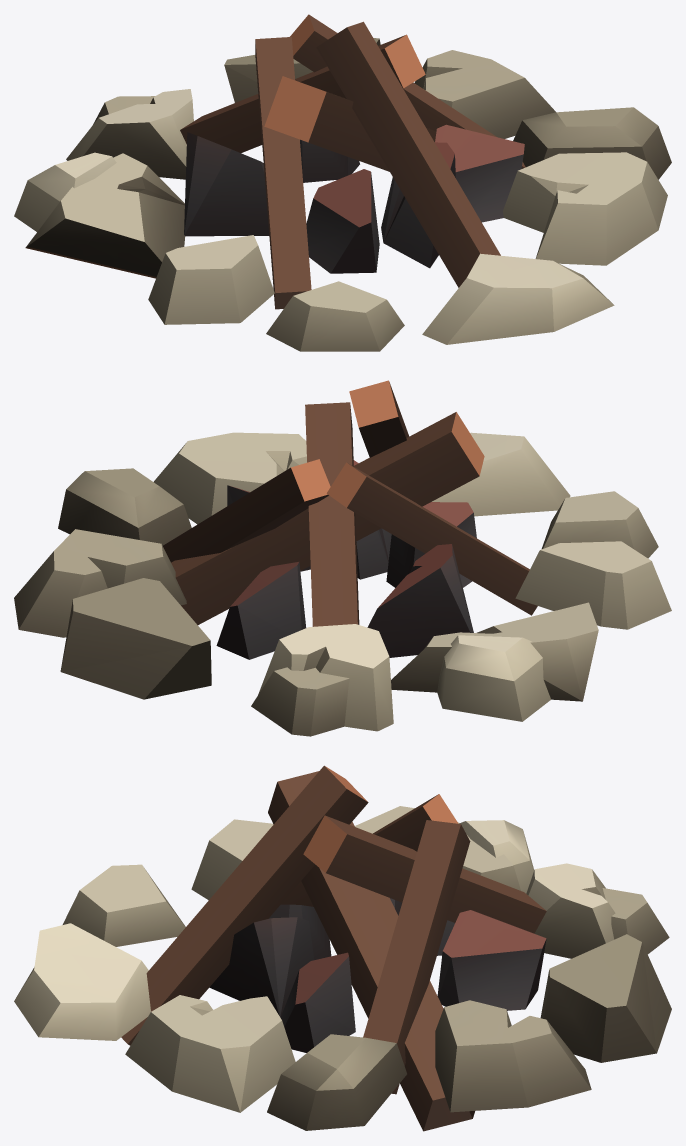
The model's file is Camp_Fire_1B.fbx.
3 renders of one model, top to bottom at view 1: azimuth 30°, elevation 25°; view 2: azimuth 150°, elevation 25°; view 3: azimuth 270°, elevation 25°, orthographic.
Parts seen in each view (by area): view 1: Camp_Fire_1B; view 2: Camp_Fire_1B; view 3: Camp_Fire_1B.
Boxes of the visible parts, bbox=[...] form: Camp_Fire_1B: bbox=[14, 14, 671, 351]; Camp_Fire_1B: bbox=[14, 380, 671, 736]; Camp_Fire_1B: bbox=[14, 765, 671, 1131].
Size of the model in its own units: 186 by 82.66 by 183.
